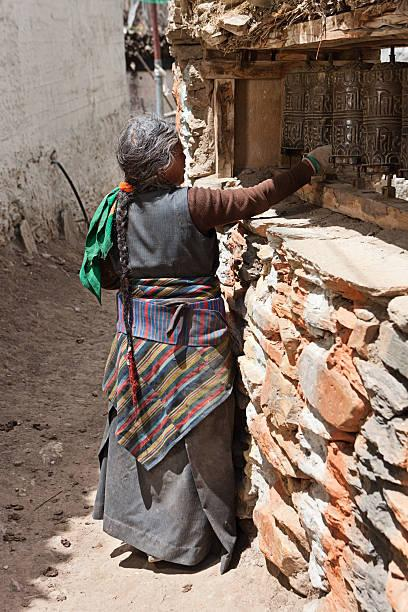Human: (82, 102, 295, 575)
